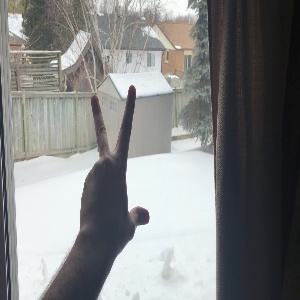hand: (81, 86, 150, 243)
